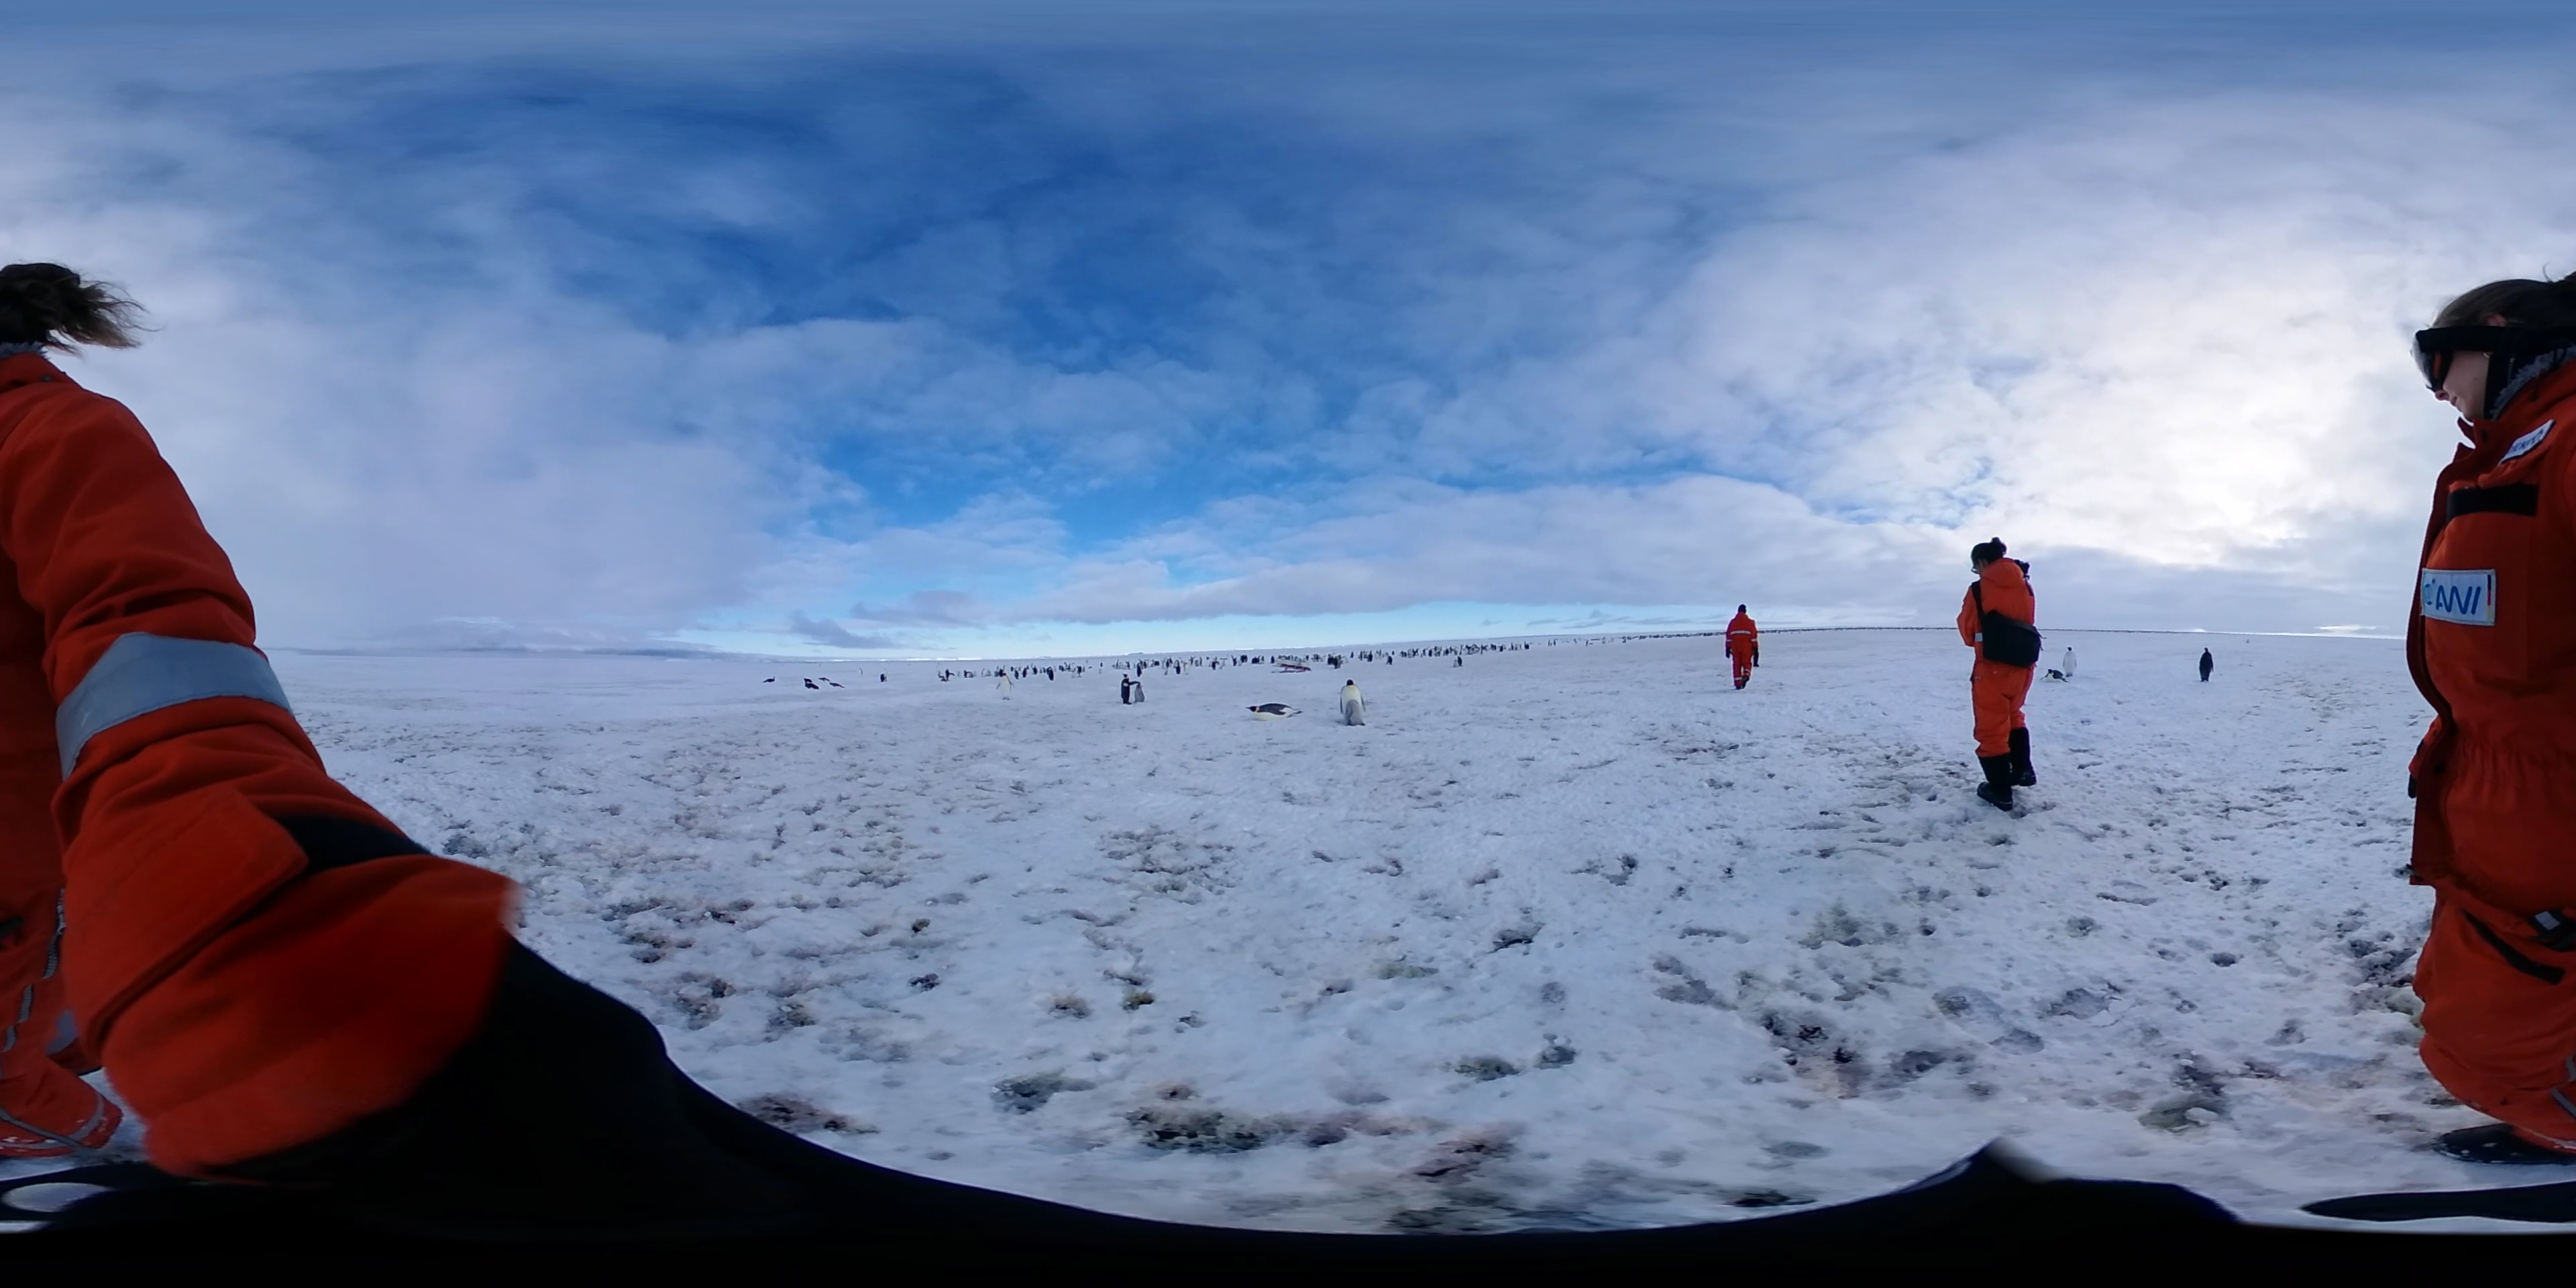adult_standing_penguin: (1339, 680, 1365, 724), (2195, 647, 2218, 685), (994, 670, 1019, 703), (2060, 646, 2078, 678), (1119, 674, 1134, 706)
adult_toboggan_penguin: (1247, 703, 1306, 718), (2039, 665, 2068, 682)
juvenile_penguin: (1344, 697, 1368, 728), (1134, 683, 1148, 706)
researcher: (3, 250, 496, 1194), (2390, 258, 2576, 1171), (1957, 537, 2045, 808), (1720, 605, 1759, 695)
